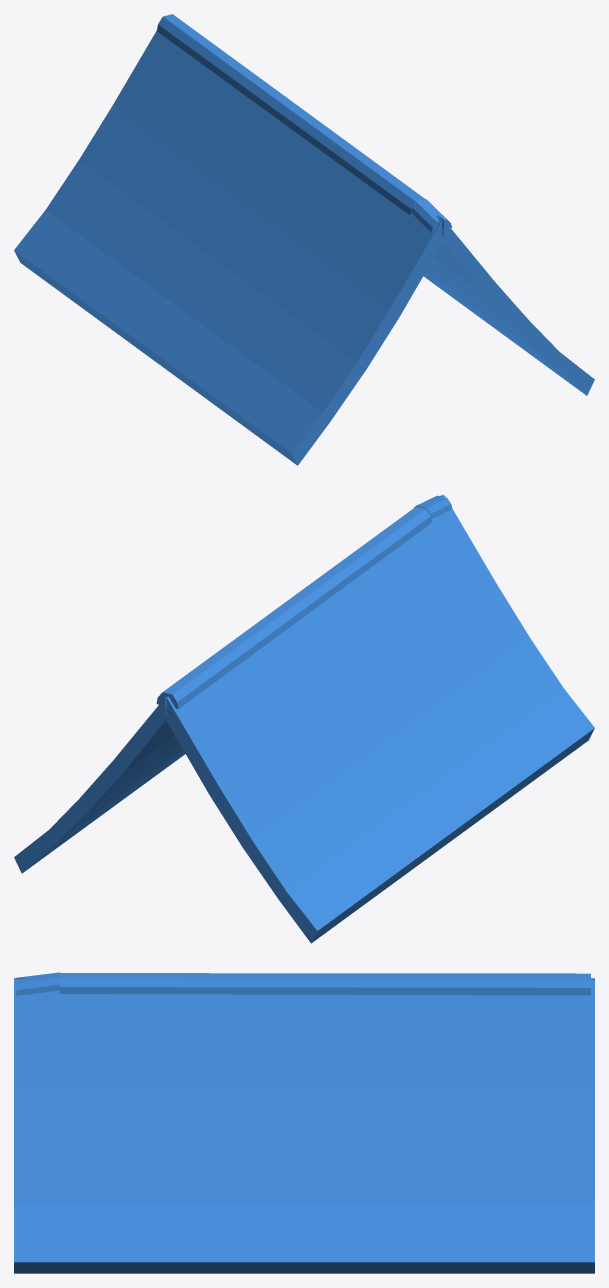
File: Collision_Roof_RoundTiles_8x14.fbx
The picture shows the model from 3 angles, top to bottom: view 1: azimuth 30°, elevation 25°; view 2: azimuth 150°, elevation 25°; view 3: azimuth 270°, elevation 25°; orthographic projection. The views are drawn at different scales.
Parts seen in each view (by area): view 1: UCX_Roof_RoundTiles_8x14_01; view 2: UCX_Roof_RoundTiles_8x14_01; view 3: UCX_Roof_RoundTiles_8x14_01.
Part boxes in pixels (<box>): UCX_Roof_RoundTiles_8x14_01: <box>14,14,594,465</box>; UCX_Roof_RoundTiles_8x14_01: <box>14,494,594,943</box>; UCX_Roof_RoundTiles_8x14_01: <box>14,972,594,1273</box>.
Bounding box in the file's own units: 996 × 674 × 1576.
